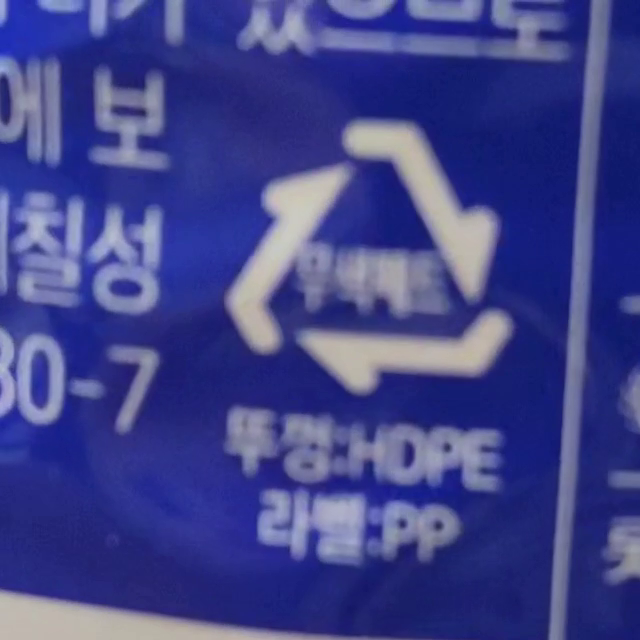ColorlessPet: (228, 123, 513, 395)
